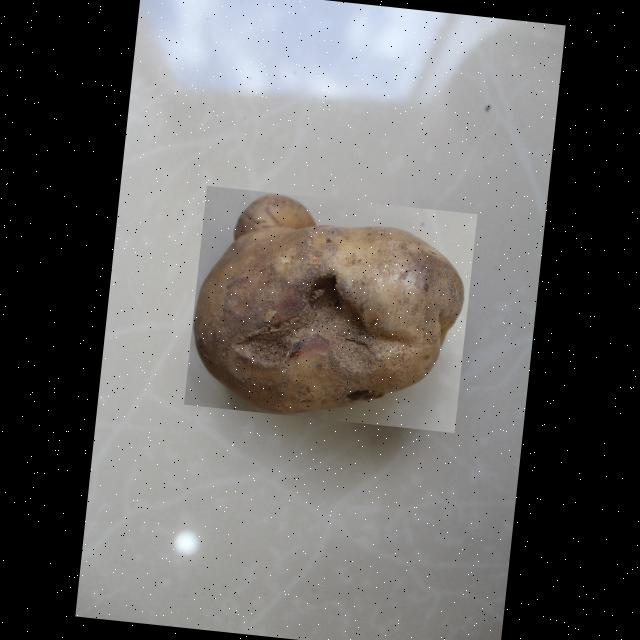Damaged potato: (183, 185, 478, 432)
